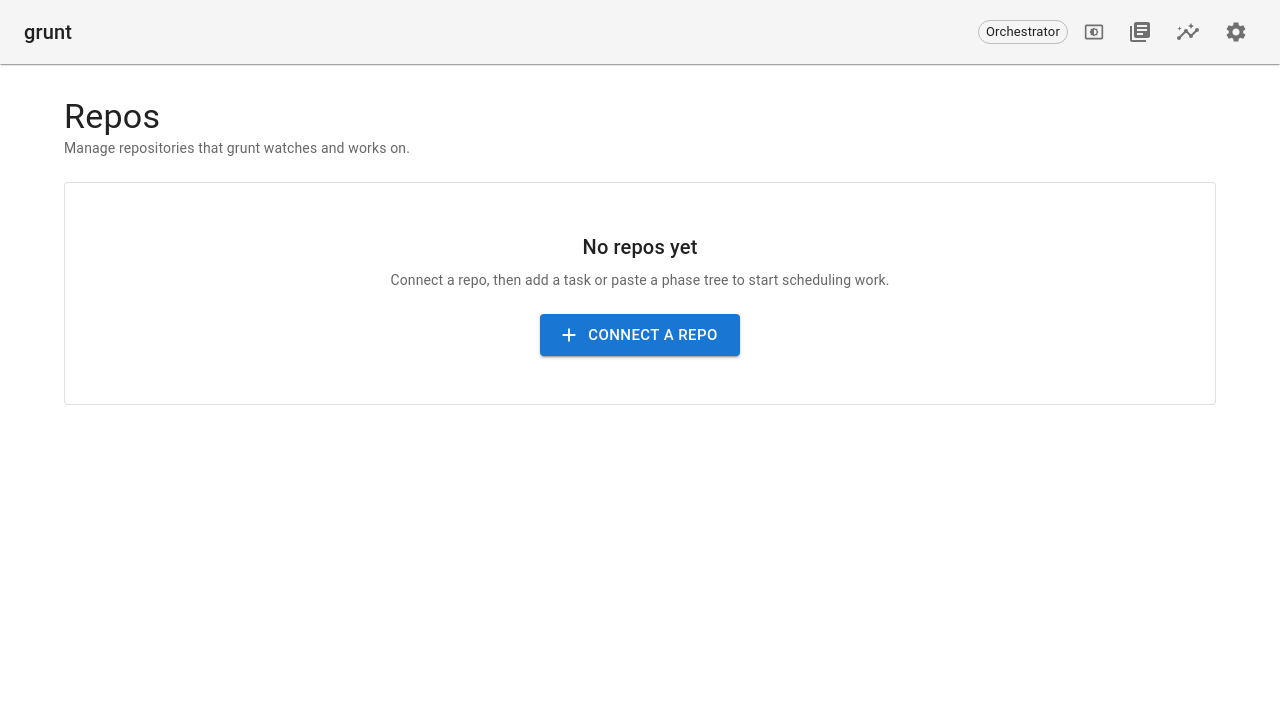
UsageDashboard › renders 'Unlimited' when weekly_cap is null so the dashboard never implies a ceiling that doesn't exist
Click the button with test id "usage-button".
click(1188, 32)  # box [1168,12,1208,52]
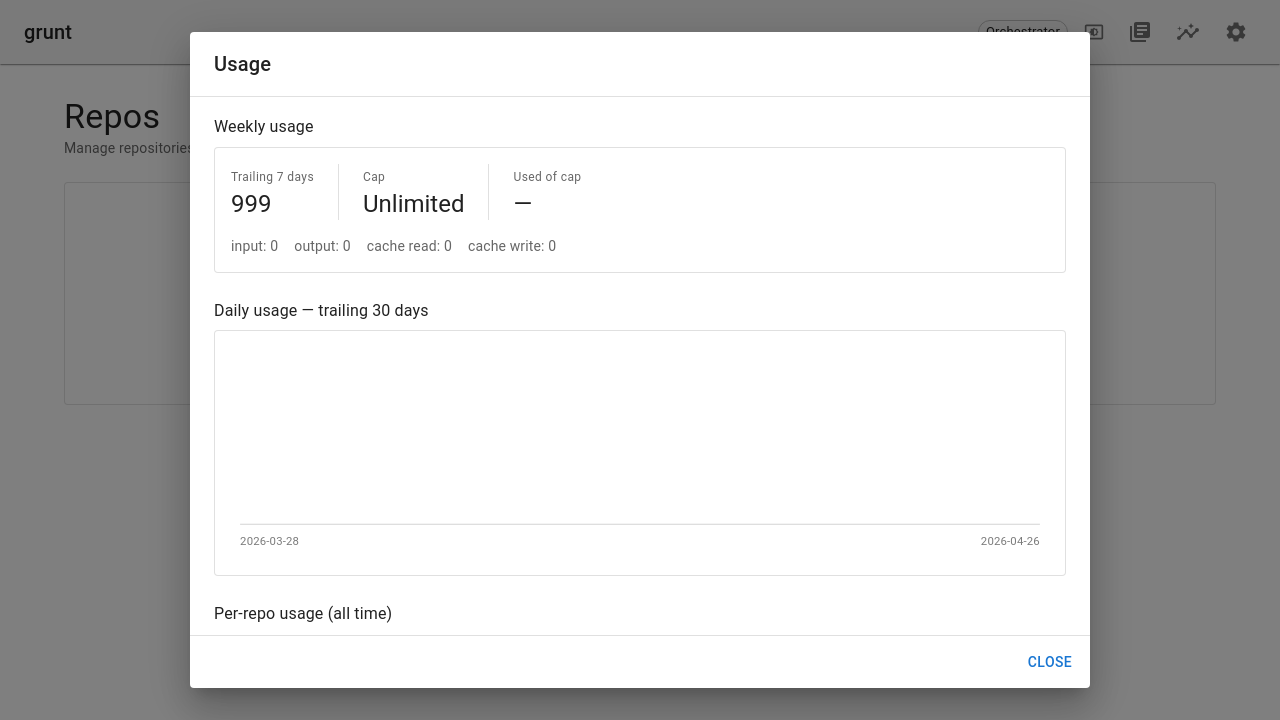
Now the heading with test id "usage-weekly-cap" reads "Unlimited", box [363,190,464,218]
Now the heading with test id "usage-weekly-pct" reads "—", box [514,190,532,218]
